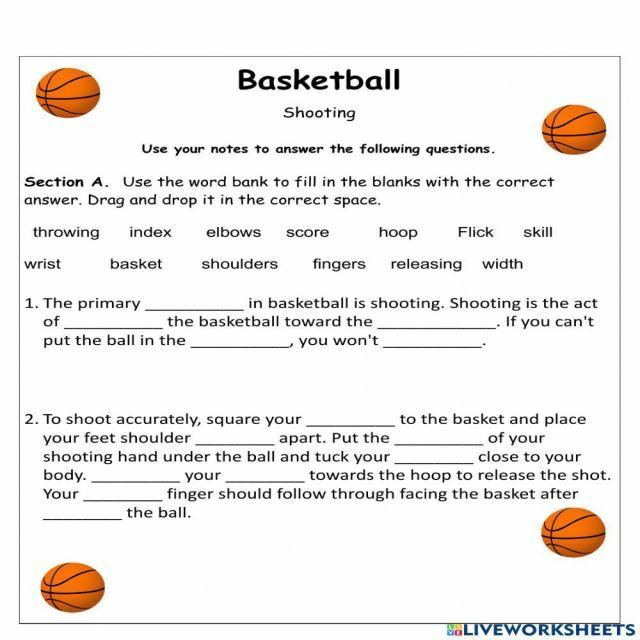Basketball: (36, 68, 101, 118), (542, 508, 606, 557), (544, 104, 606, 154), (40, 564, 104, 612)
